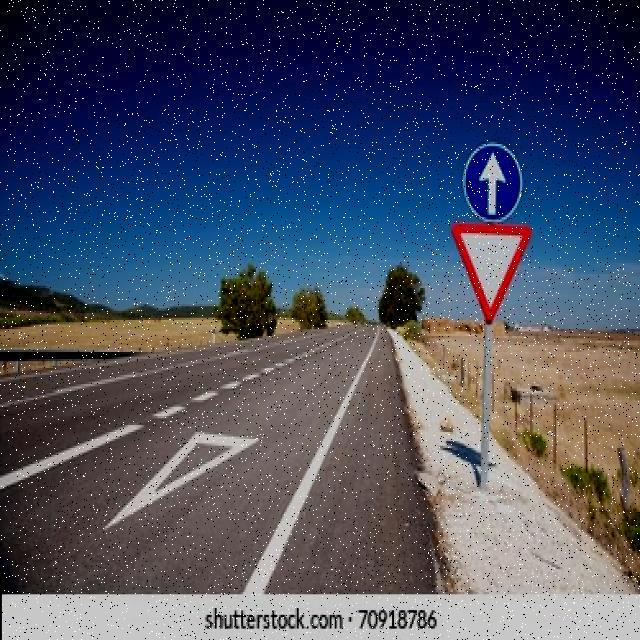Traffic sign: (448, 138, 537, 326)
